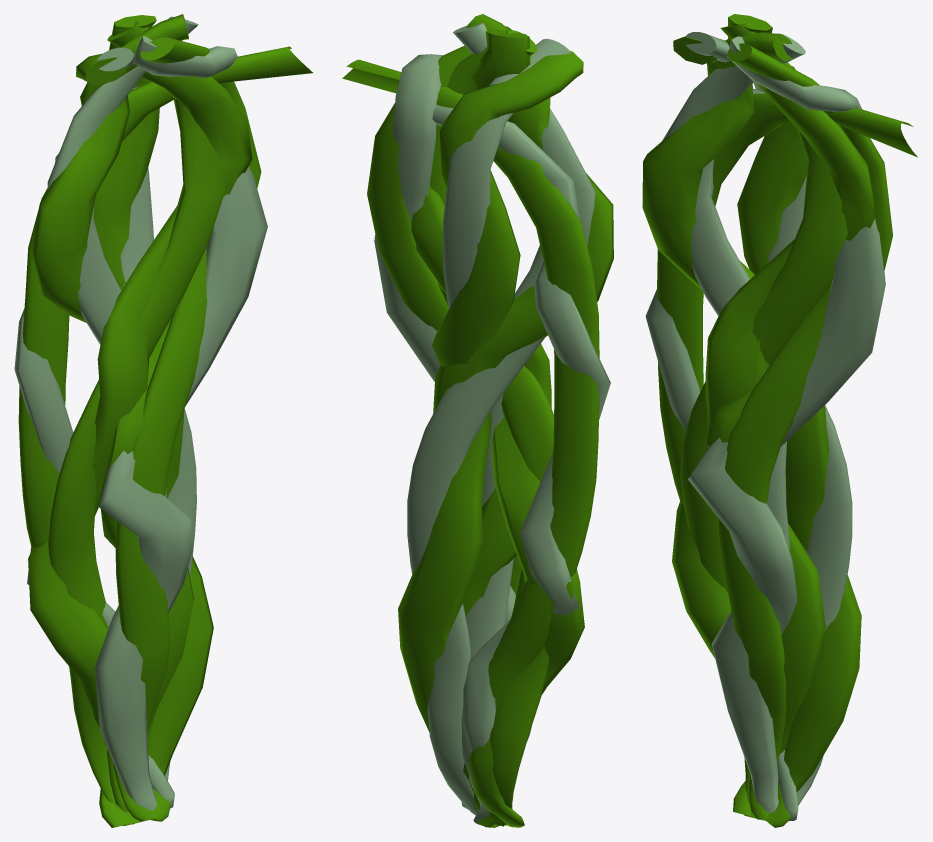
Rendered from Kletterranke.fbx.
The picture shows the model from 3 angles, left to right: view 1: azimuth 30°, elevation 25°; view 2: azimuth 150°, elevation 25°; view 3: azimuth 330°, elevation 25°; orthographic projection. The views are drawn at different scales.
Visible parts, largest first — view 1: Kletterranke; view 2: Kletterranke; view 3: Kletterranke.
Part boxes in pixels (box(x1,y1,x2,y2)): Kletterranke: box(14, 14, 312, 827); Kletterranke: box(342, 14, 613, 827); Kletterranke: box(642, 14, 917, 827).
Bounding box in the file's own units: 518 × 1404 × 160.
